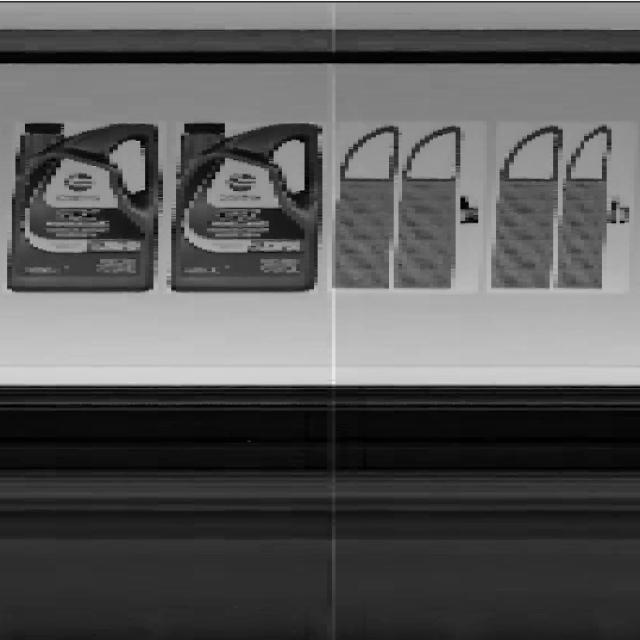air_filter: (391, 124, 466, 292), (488, 119, 552, 292), (553, 122, 617, 291), (332, 117, 389, 293)
motor_oil: (0, 116, 164, 293), (166, 118, 324, 300)
